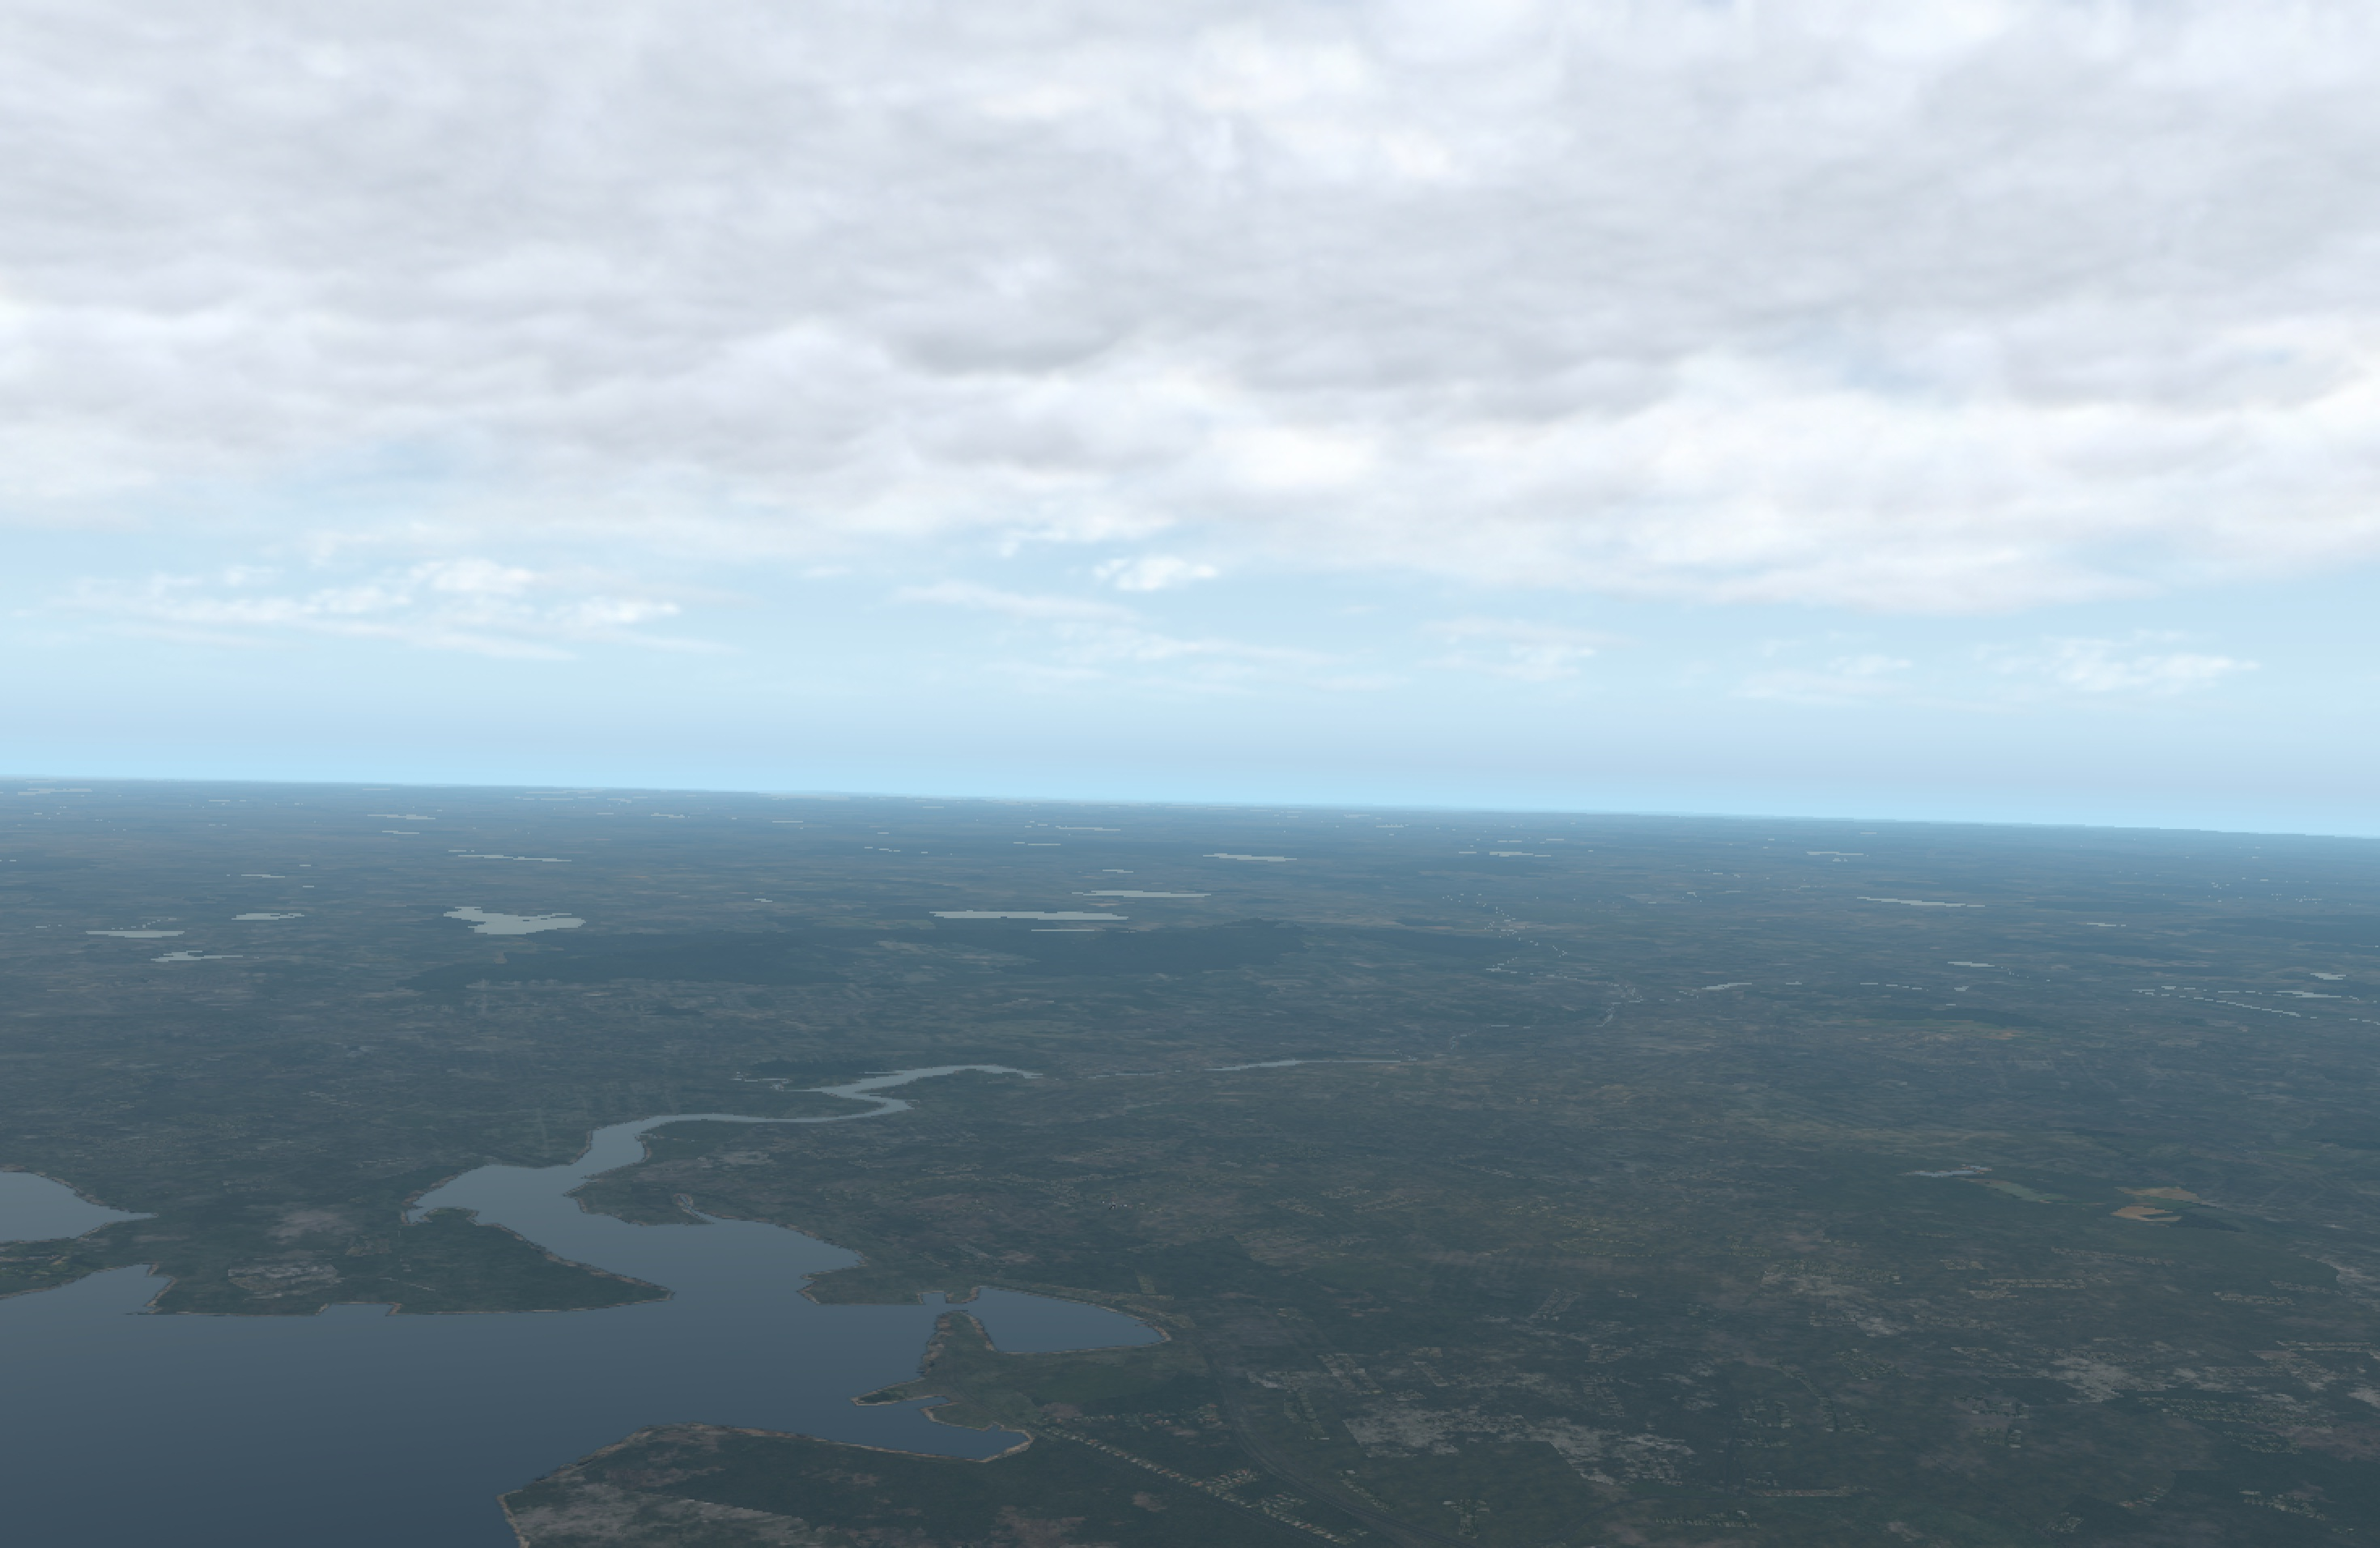aircraft: (1103, 1201, 1126, 1210)
